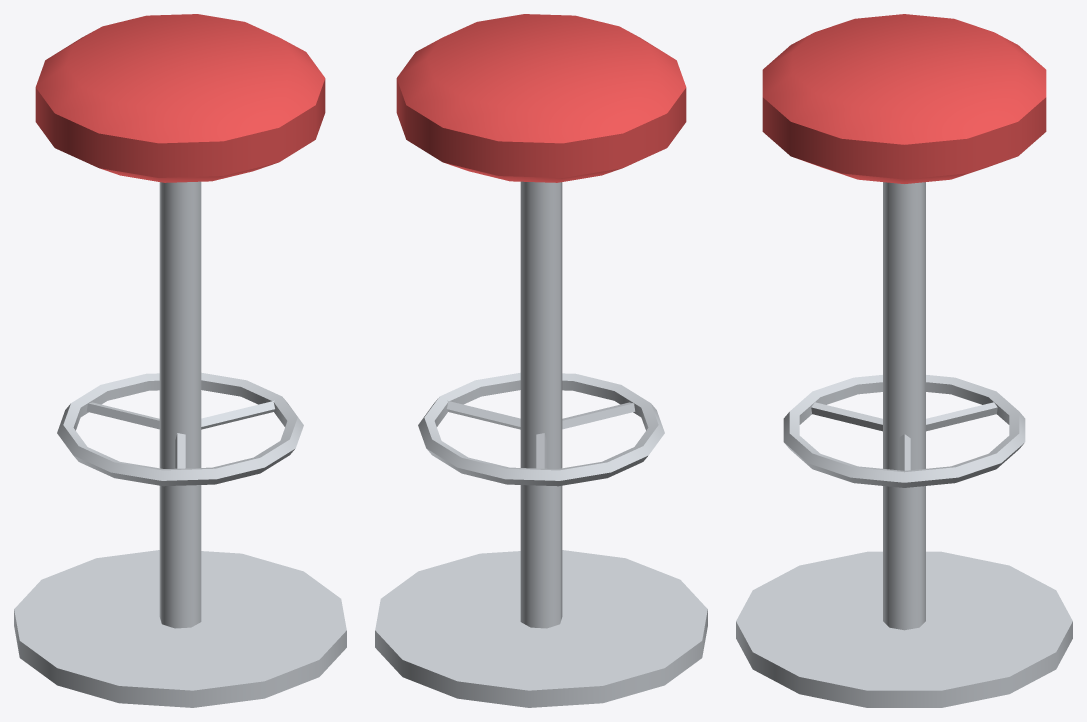
File: barstool.glb
The picture shows the model from 3 angles, left to right: view 1: azimuth 30°, elevation 25°; view 2: azimuth 150°, elevation 25°; view 3: azimuth 270°, elevation 25°; orthographic projection.
Parts seen in each view (by area): view 1: barstool; view 2: barstool; view 3: barstool.
Boxes of the visible parts, x1,y1,x2,y2 form: barstool: (14,14,346,707); barstool: (375,14,707,707); barstool: (736,14,1072,707).
Bounding box in the file's own units: 0.429 × 0.83 × 0.44.
